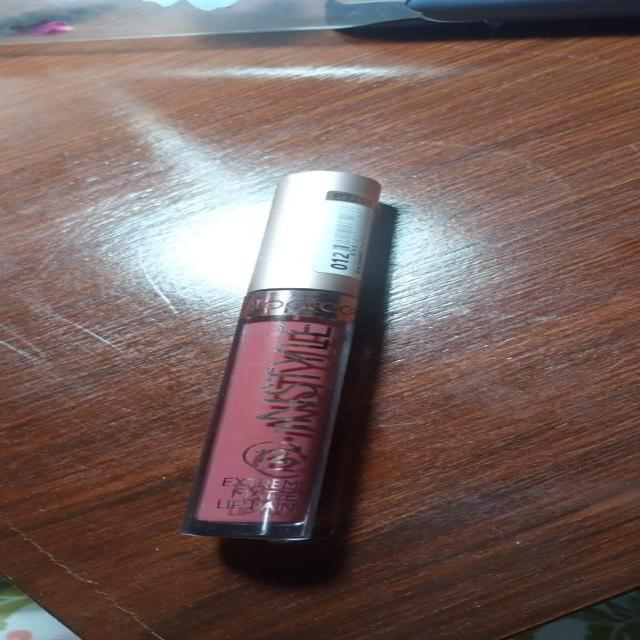lip gloss: (139, 152, 423, 556)
